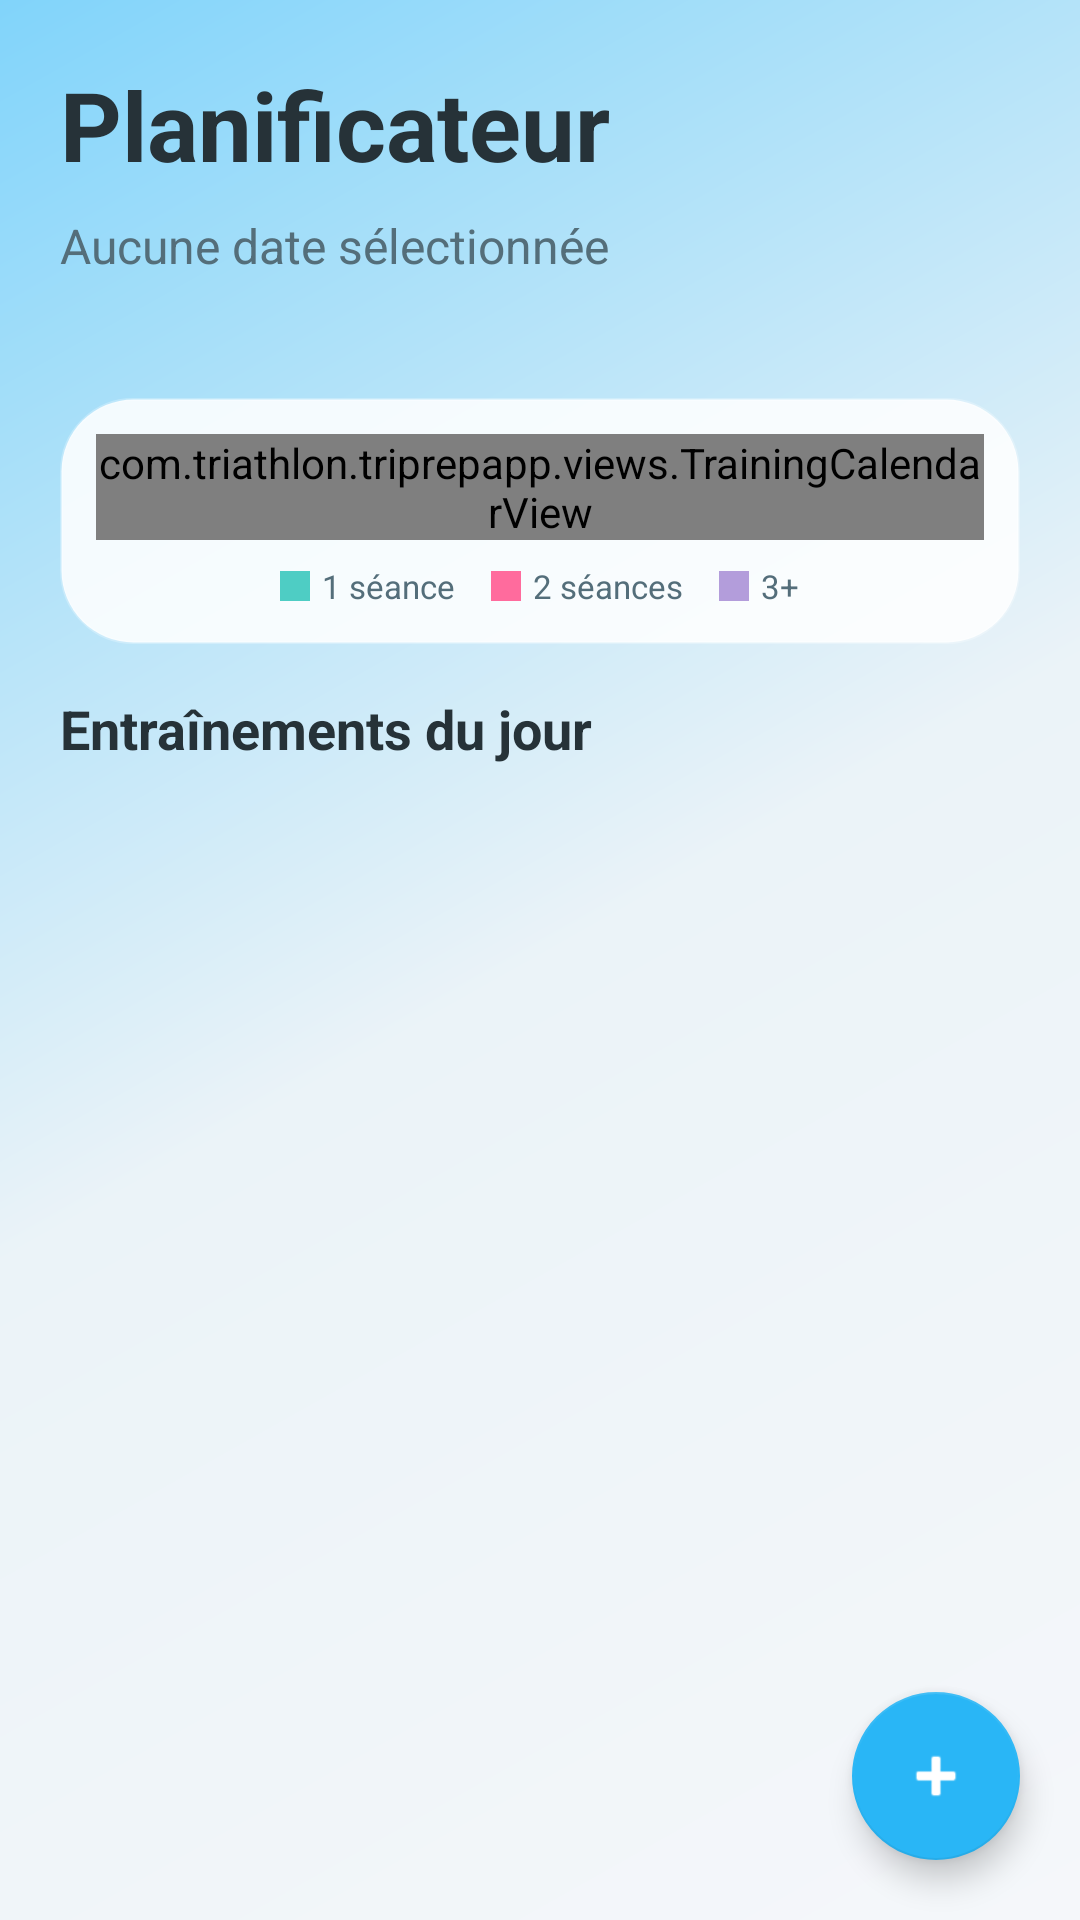

Point at icon controls on the screen. Image size 1080*1920, points as [x,y].
Ajouter Entraînement: [936,1776]
